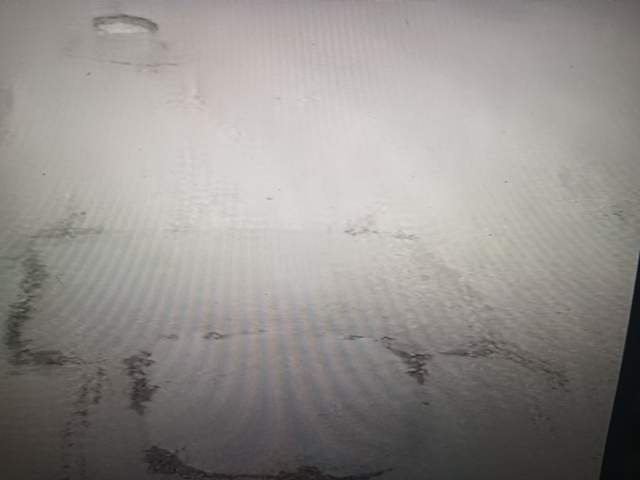pothole: (104, 404, 311, 480)
